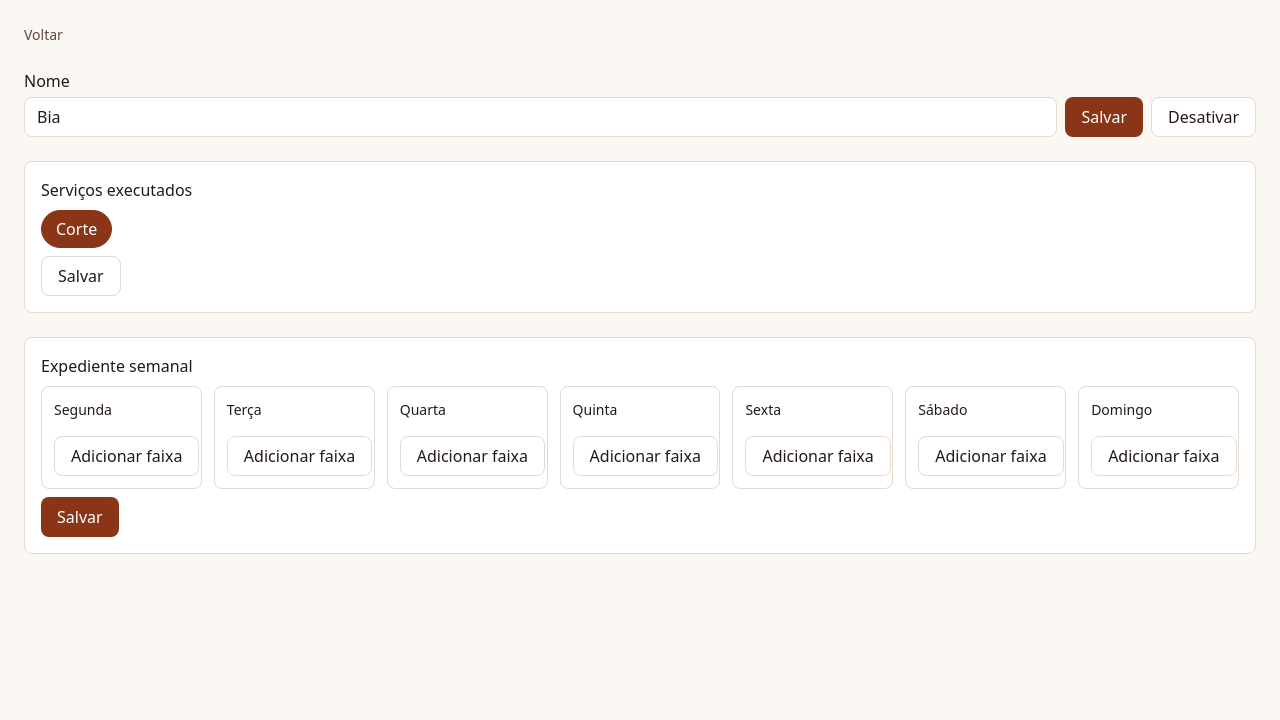
Test: ProfessionalDetailScreen › reflects a saved name change without a manual reload
Expected: the field showing "Bia" is shown, [24,97,1057,137]
Click the 1st button "Salvar": coordinates (1104, 117) [1065,97,1143,137]
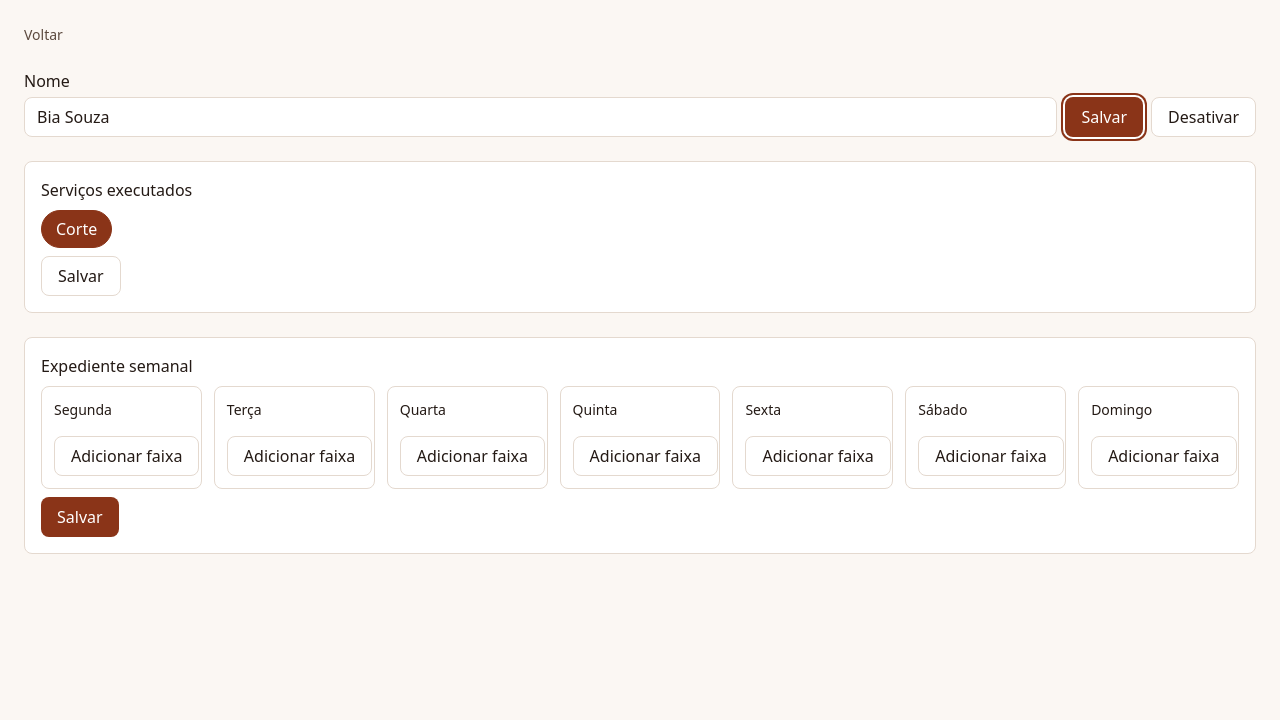
Expected: the field showing "Bia Souza" is shown, [24,97,1057,137]
